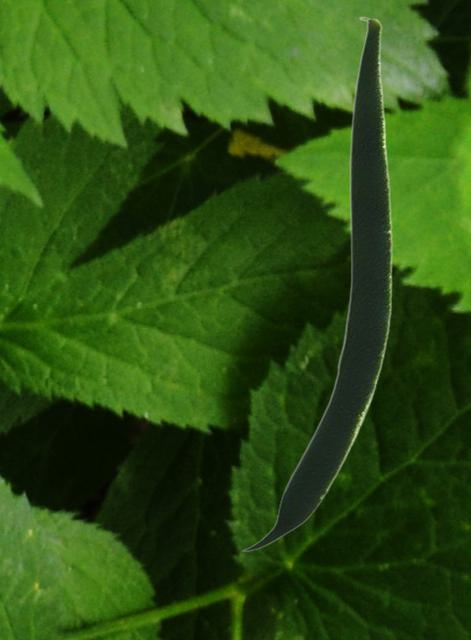french_bean: (241, 16, 391, 551)
